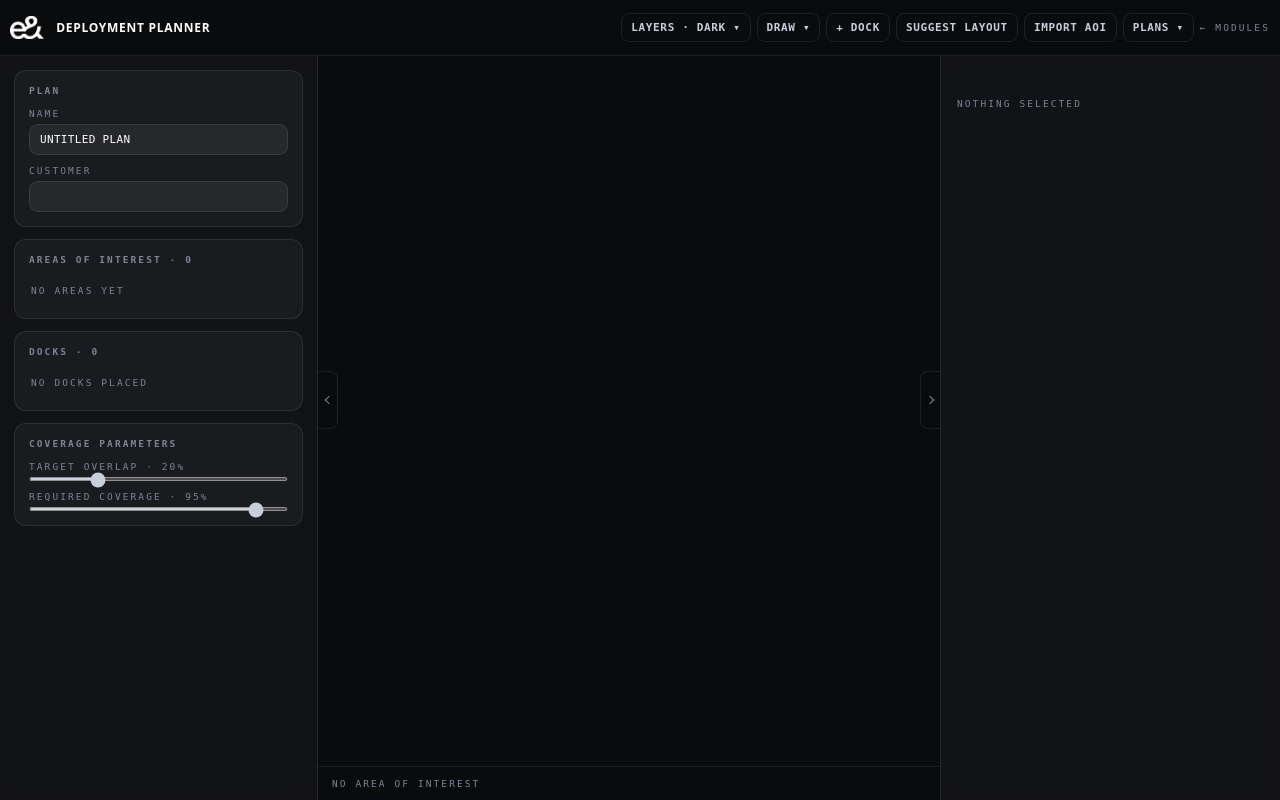
it: PlannerShell tool-mode mutual exclusion (Minor 6) › arming dock placement while a draw mode is active stands the draw mode back down
Click the button "DRAW ▾" at (788, 28), box [756,13,820,42]
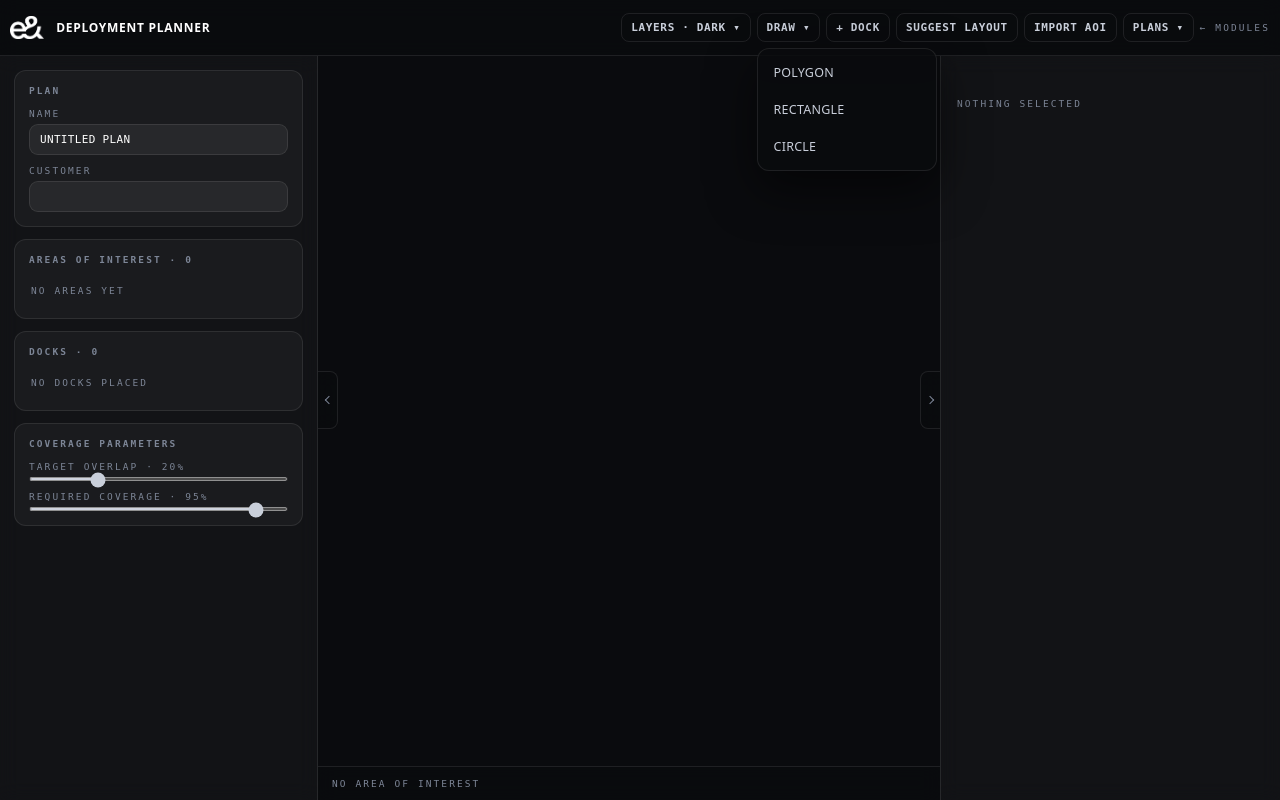
Click the button "RECTANGLE" at (846, 110), box [764,92,930,127]
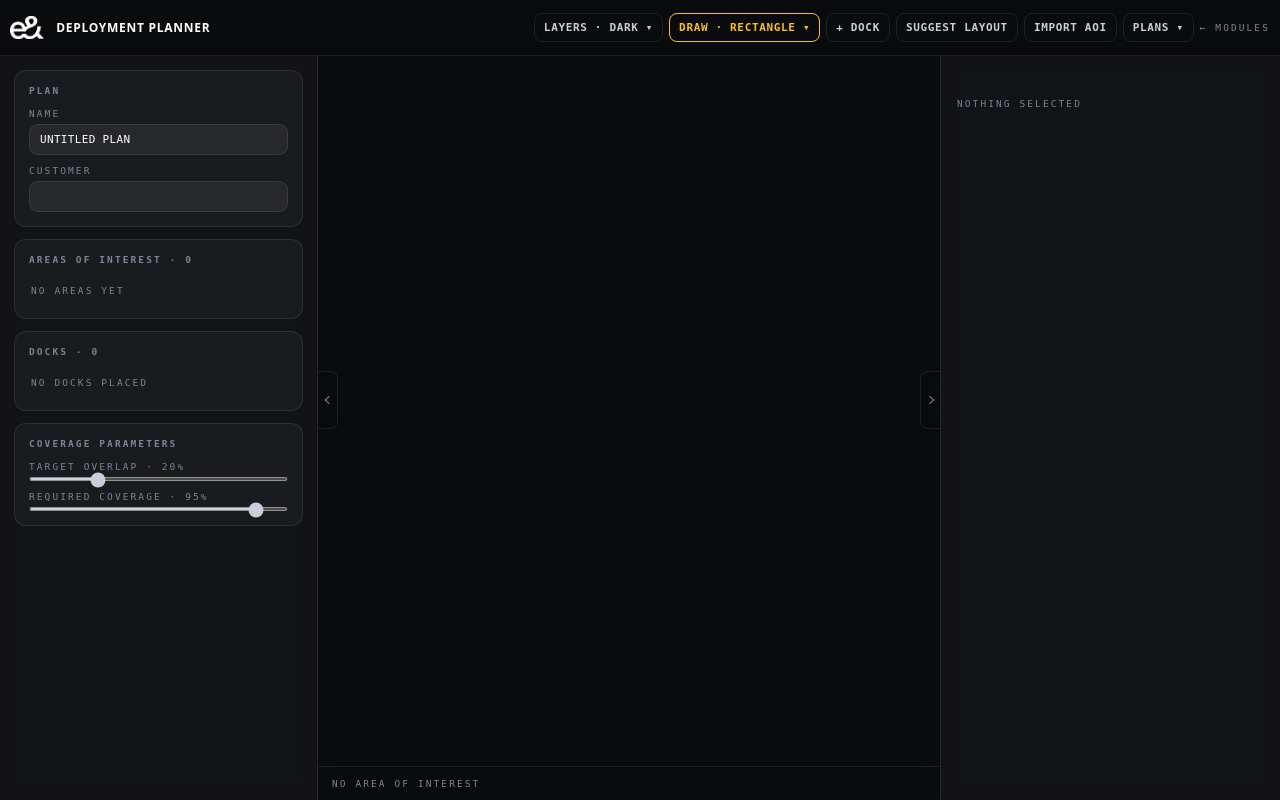
Expected: the button "DRAW · RECTANGLE ▾" is shown, [669,13,820,42]
Click the button "+ DOCK" at (858, 28), box [826,13,890,42]
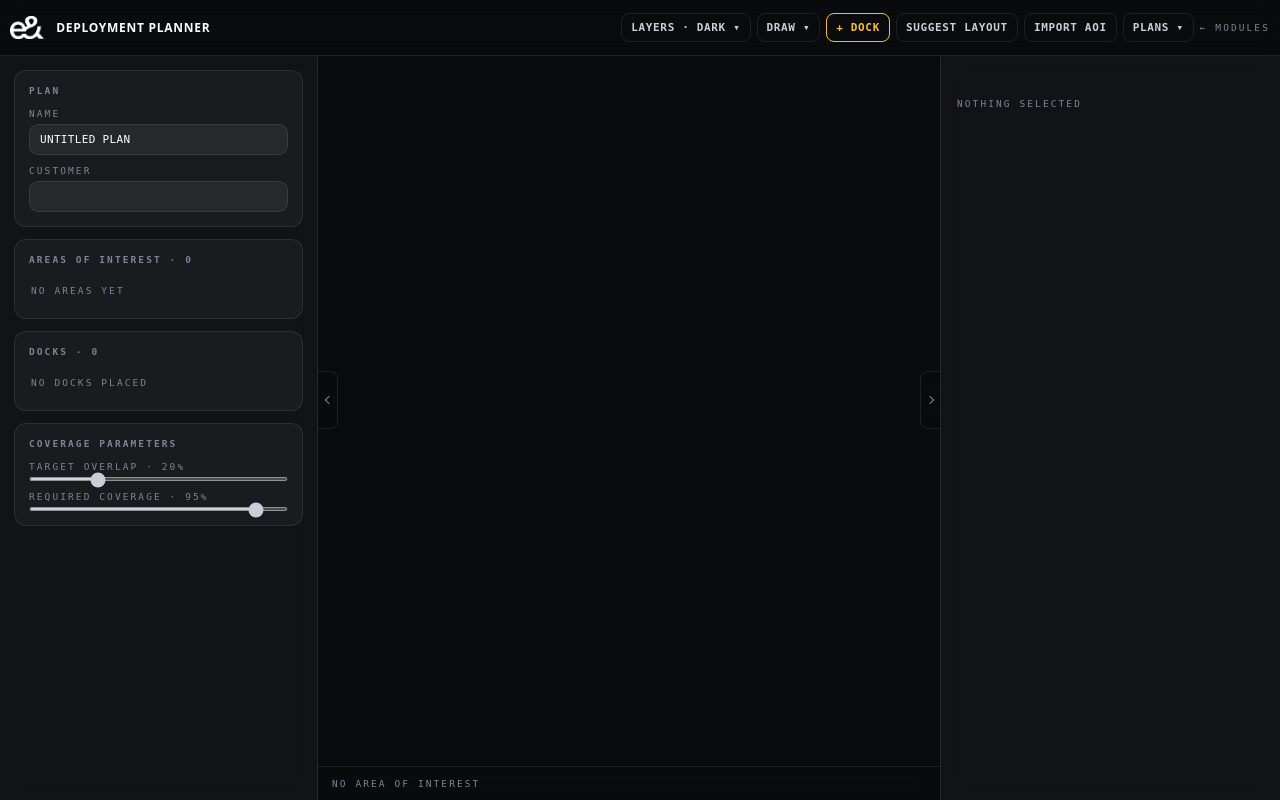
Expected: the button "DRAW ▾" is shown, [756,13,820,42]
